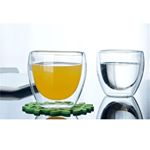cups: (24, 47, 89, 113), (93, 45, 147, 104)
